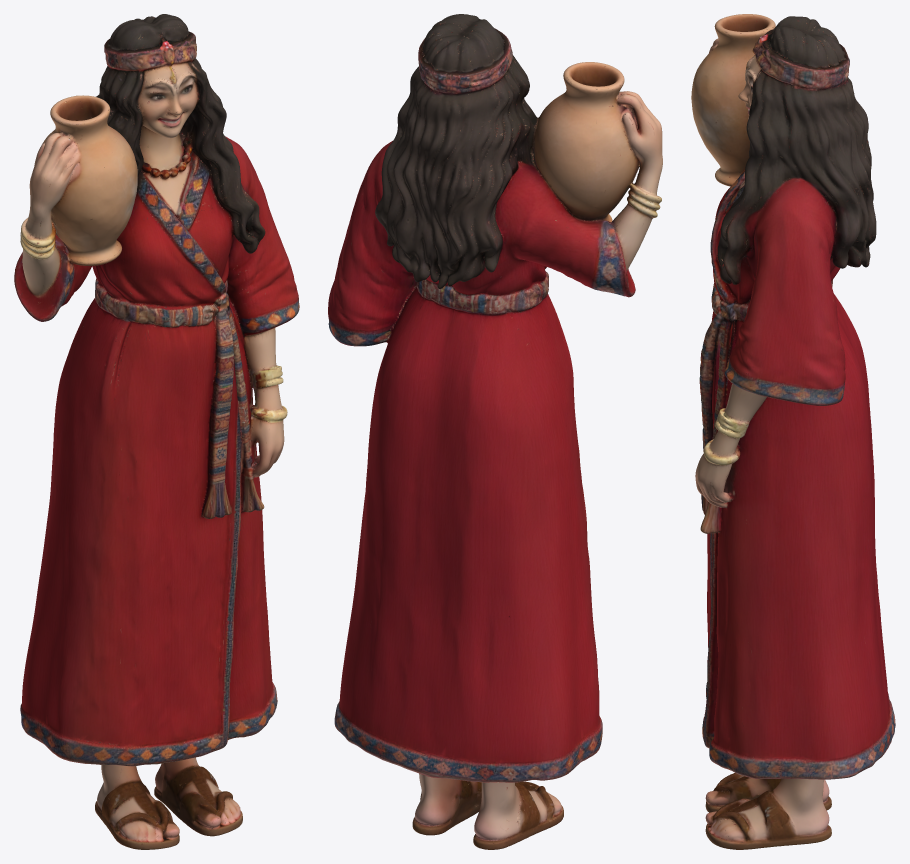
Rendered from Meshy_AI_rikvah_0209042630_texture.glb.
3 renders of one model, left to right at view 1: azimuth 30°, elevation 25°; view 2: azimuth 150°, elevation 25°; view 3: azimuth 270°, elevation 25°, orthographic. The views are drawn at different scales.
Bounding box in the file's own units: 0.7627 × 2 × 0.4633.
1 material, 1 textured.
